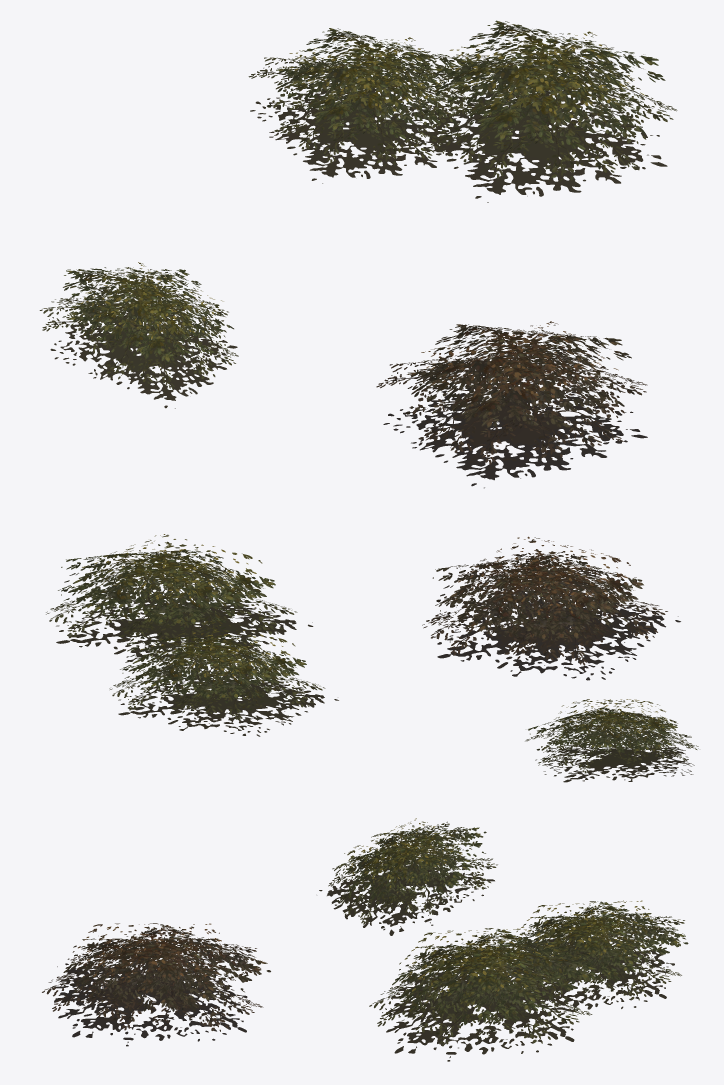
File: plants_bushes.fbx
3 renders of one model, top to bottom at view 1: azimuth 30°, elevation 25°; view 2: azimuth 150°, elevation 25°; view 3: azimuth 270°, elevation 25°, orthographic. The views are drawn at different scales.
Visible parts, largest first — view 1: plants_bushes-0; view 2: plants_bushes-0; view 3: plants_bushes-0.
Part boxes in pixels (box(x1,y1,x2,y2)): plants_bushes-0: box(39, 20, 677, 488); plants_bushes-0: box(46, 534, 698, 782); plants_bushes-0: box(42, 818, 688, 1061).
Bounding box in the file's own units: 11.89 × 2.95 × 11.99.
